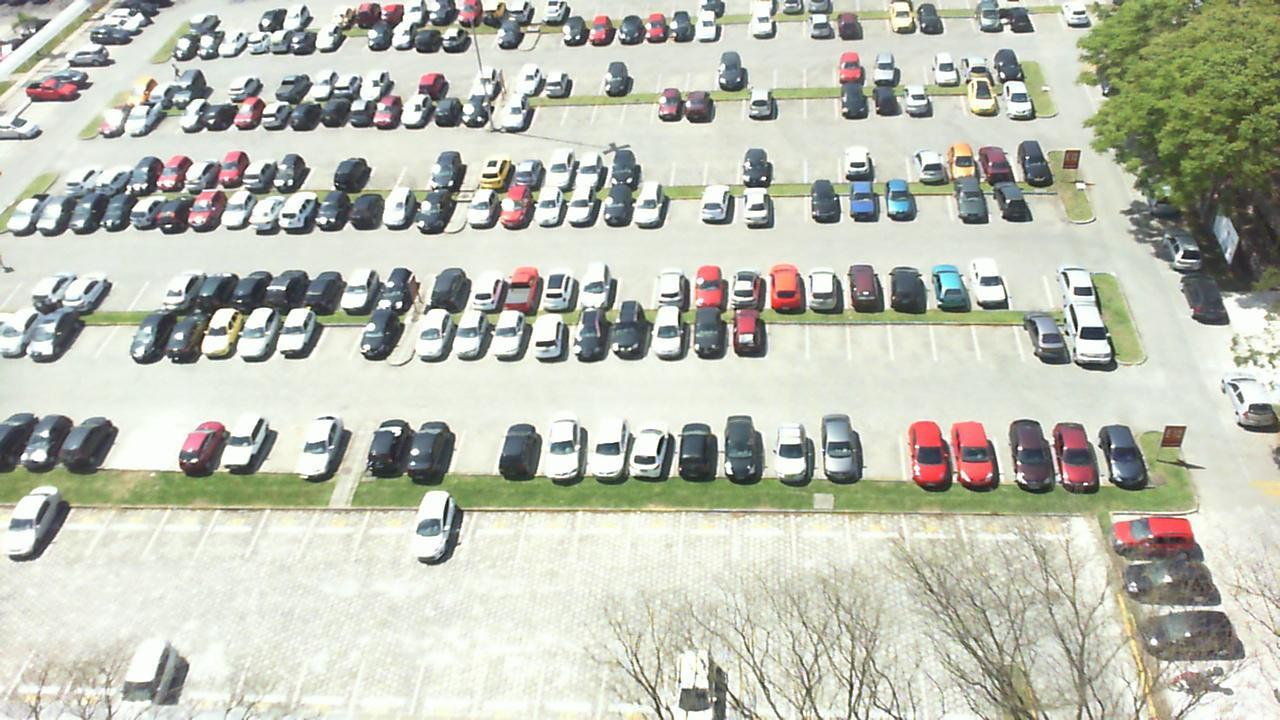empty: (188, 500, 264, 564), (246, 497, 315, 564), (141, 501, 211, 563), (87, 500, 158, 561), (295, 499, 363, 562), (461, 507, 527, 567), (351, 501, 418, 558), (446, 416, 508, 477), (518, 504, 581, 563), (624, 507, 683, 570), (42, 501, 110, 555), (127, 413, 185, 473), (576, 505, 629, 567), (856, 422, 909, 482), (254, 416, 307, 472), (307, 308, 359, 365), (972, 307, 1022, 360), (934, 309, 976, 362), (888, 311, 934, 359), (1011, 256, 1054, 307), (808, 308, 848, 360), (1022, 175, 1068, 220), (851, 311, 891, 362), (767, 310, 804, 362), (614, 263, 655, 307), (917, 182, 956, 222), (665, 186, 699, 227), (775, 182, 807, 225)
occupied: (1089, 416, 1151, 479), (408, 504, 475, 561), (997, 419, 1054, 485), (1045, 417, 1098, 481), (952, 418, 1004, 482), (234, 305, 291, 363), (211, 417, 268, 474), (165, 417, 223, 473), (443, 306, 497, 366), (903, 421, 957, 480), (535, 420, 588, 478), (272, 301, 323, 361), (492, 418, 545, 475), (625, 418, 672, 481), (1059, 304, 1113, 358), (295, 421, 349, 475), (405, 416, 457, 472), (523, 304, 571, 364), (718, 417, 764, 479), (811, 421, 858, 480), (349, 306, 396, 364), (763, 417, 809, 476), (481, 309, 529, 365), (669, 419, 717, 475), (202, 304, 249, 361), (580, 419, 626, 477), (966, 255, 1014, 309), (362, 420, 412, 471), (885, 254, 931, 307), (259, 265, 312, 310), (410, 307, 449, 368), (226, 267, 280, 310), (606, 310, 648, 364), (1051, 258, 1098, 306), (295, 266, 344, 312), (375, 184, 421, 232), (1017, 311, 1062, 360), (310, 185, 355, 233), (335, 268, 386, 310), (643, 312, 685, 363), (849, 257, 889, 310), (565, 310, 604, 364), (725, 311, 766, 362), (278, 185, 324, 230), (377, 268, 424, 312), (345, 185, 388, 233), (928, 257, 969, 307), (809, 254, 848, 306), (573, 263, 618, 308), (763, 260, 807, 306), (458, 267, 503, 311), (409, 187, 452, 232), (461, 184, 503, 230), (689, 260, 727, 309), (426, 269, 471, 310), (503, 264, 546, 306), (537, 266, 580, 307), (690, 310, 724, 361), (648, 264, 688, 307), (728, 264, 766, 307), (956, 177, 992, 222), (735, 182, 772, 225), (598, 186, 634, 230), (565, 184, 599, 230), (987, 180, 1027, 219), (534, 186, 567, 232), (500, 186, 535, 229), (807, 183, 842, 222), (844, 183, 879, 222), (880, 182, 915, 219), (632, 187, 664, 226), (702, 184, 734, 222)
